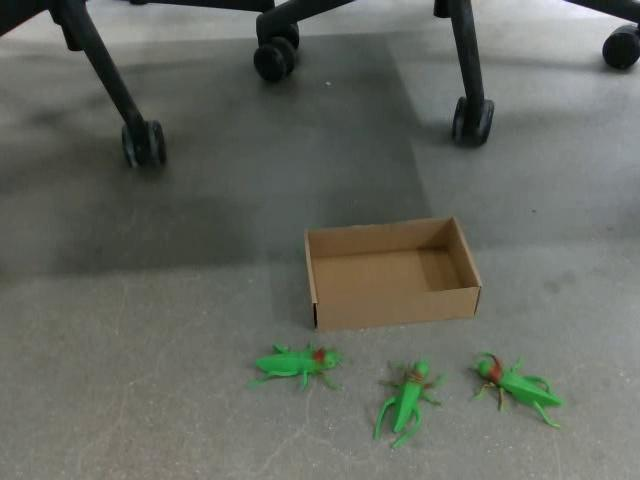box: (303, 214, 482, 331)
grasshopper: (466, 350, 563, 429), (371, 357, 443, 449), (251, 340, 344, 392)
